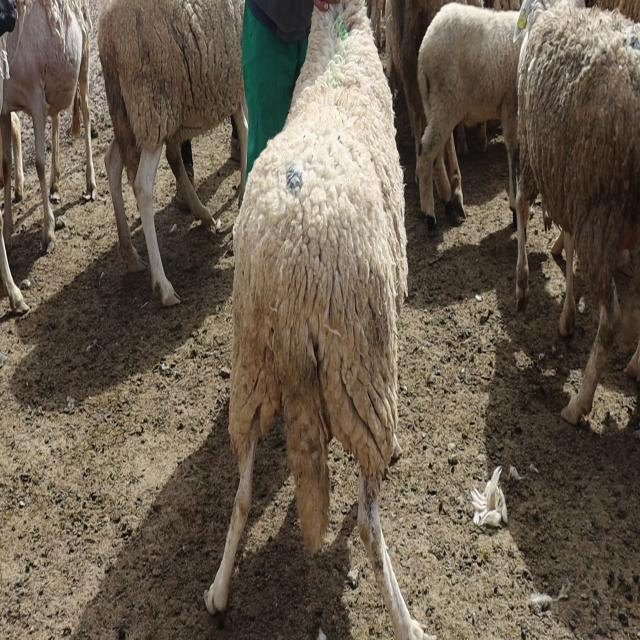Score_3: (204, 0, 435, 639)
